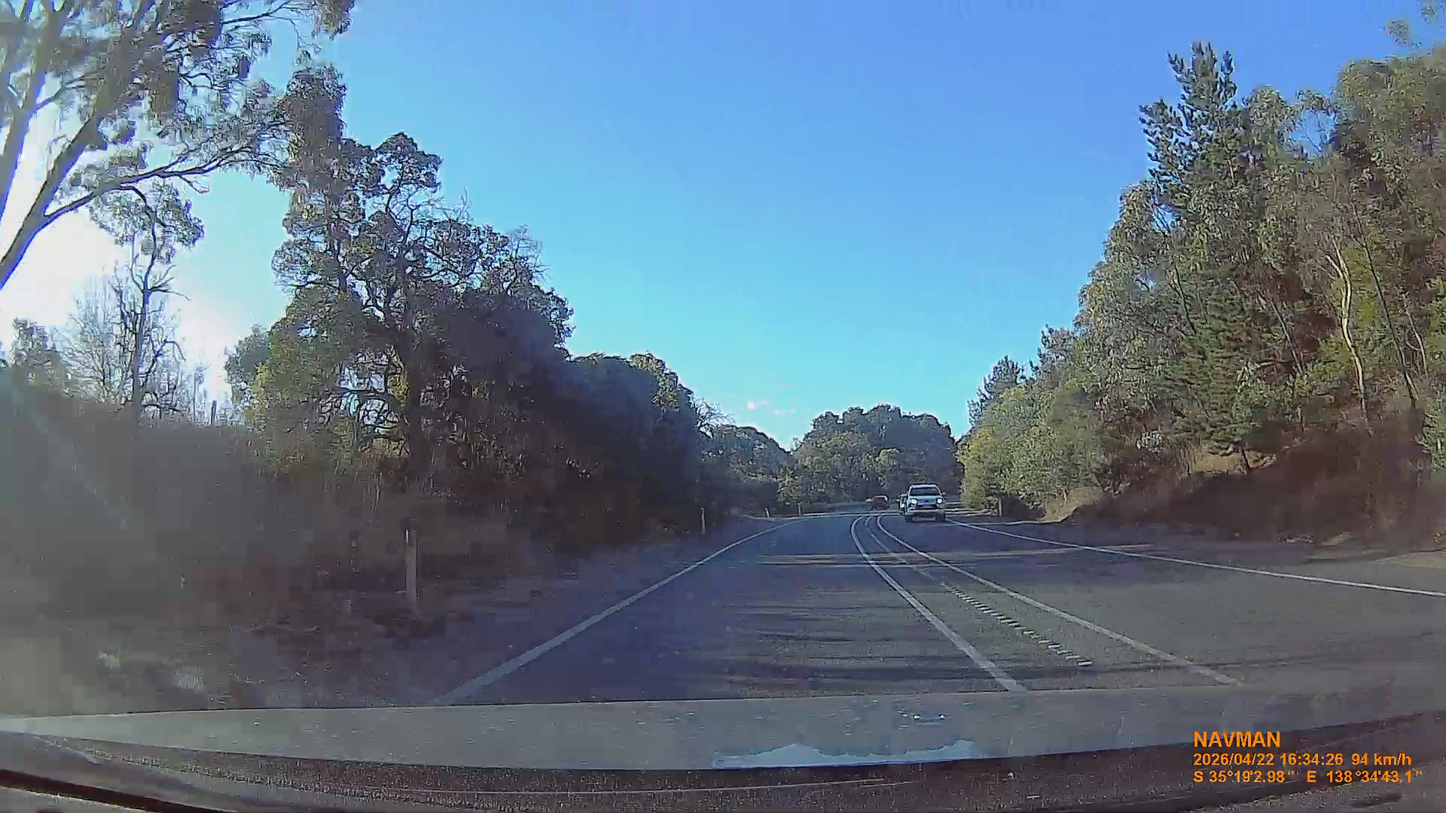fences: (403, 525, 419, 611), (700, 507, 705, 534)
